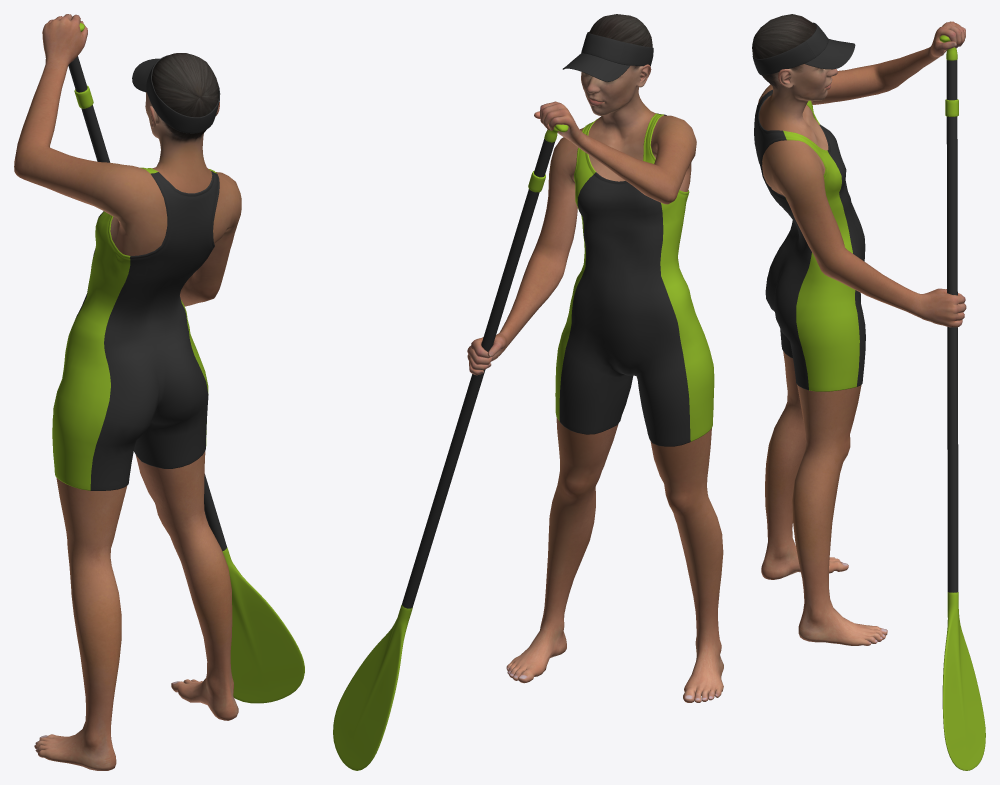
3 views of the same model, side by side, from view 1: azimuth 30°, elevation 25°; view 2: azimuth 150°, elevation 25°; view 3: azimuth 270°, elevation 25° (orthographic). The views are drawn at different scales.
Parts seen in each view (by area): view 1: PdlWomBody, PdlWomClothes, Paddle; view 2: PdlWomBody, PdlWomClothes, Paddle; view 3: PdlWomBody, PdlWomClothes, Paddle.
Boxes of the visible parts, <box> form: PdlWomBody: <box>14,14,241,770</box>; PdlWomClothes: <box>52,55,220,490</box>; Paddle: <box>68,23,304,703</box>; PdlWomBody: <box>467,14,723,702</box>; PdlWomClothes: <box>555,31,714,446</box>; Paddle: <box>333,123,568,770</box>; PdlWomBody: <box>752,14,966,645</box>; PdlWomClothes: <box>752,22,865,391</box>; Paddle: <box>939,35,985,770</box>.
Bounding box in the file's own units: 0.8873 × 1.92 × 0.6052.
Materials: 5 (1 with a texture image).
